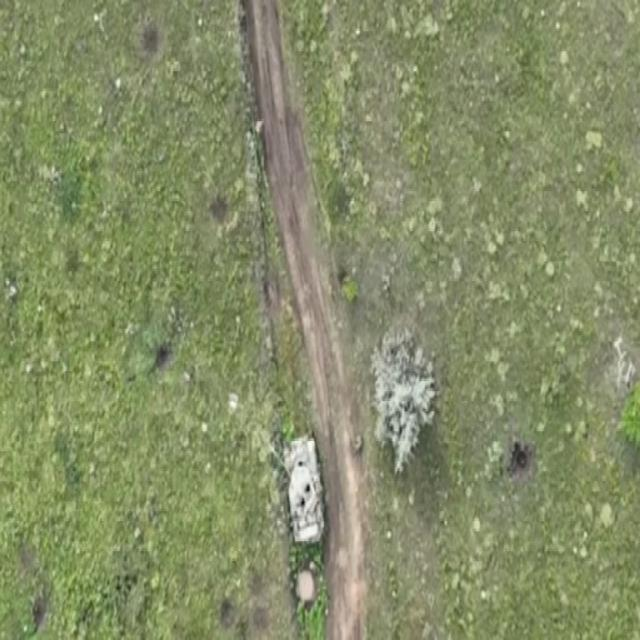TANK: (259, 422, 325, 549)
